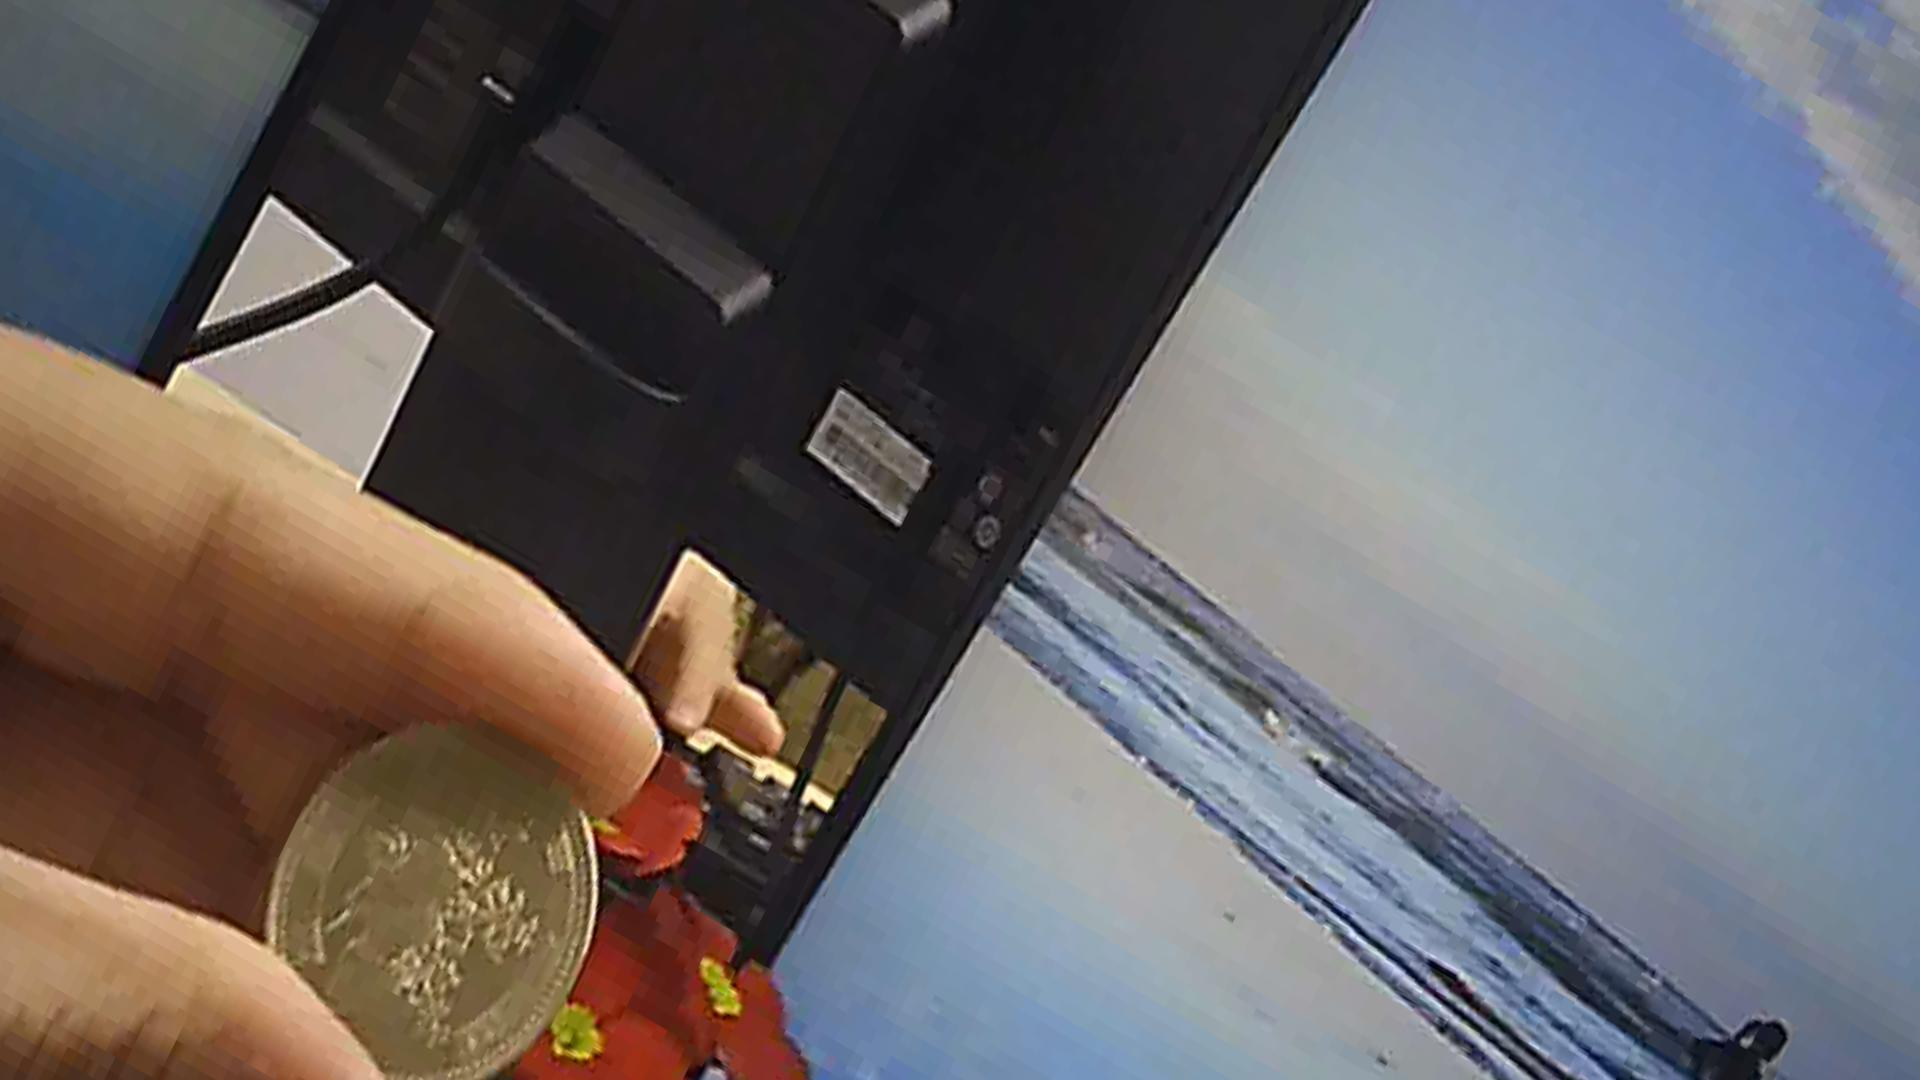500 Yen: (252, 725, 599, 1062)
